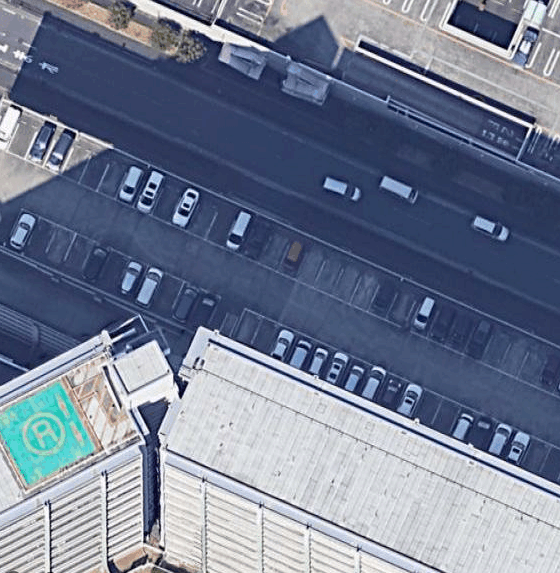flatroof: (158, 368, 539, 547)
heliport_r: (1, 367, 106, 505)
